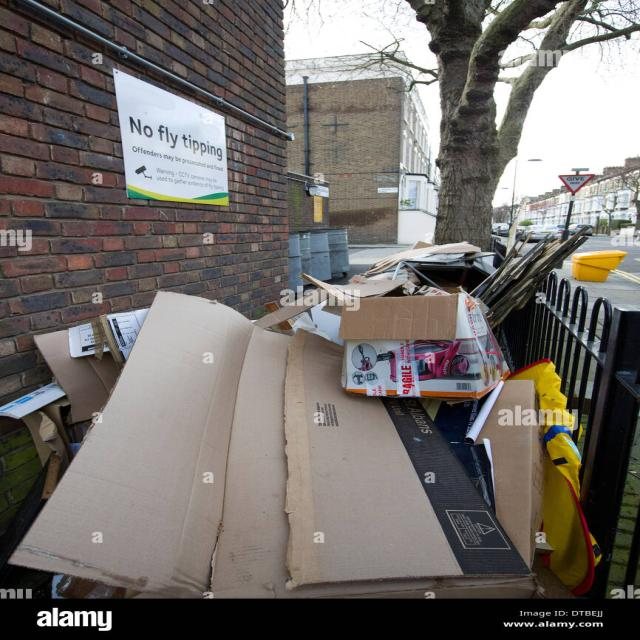dumping: (12, 227, 618, 595)
